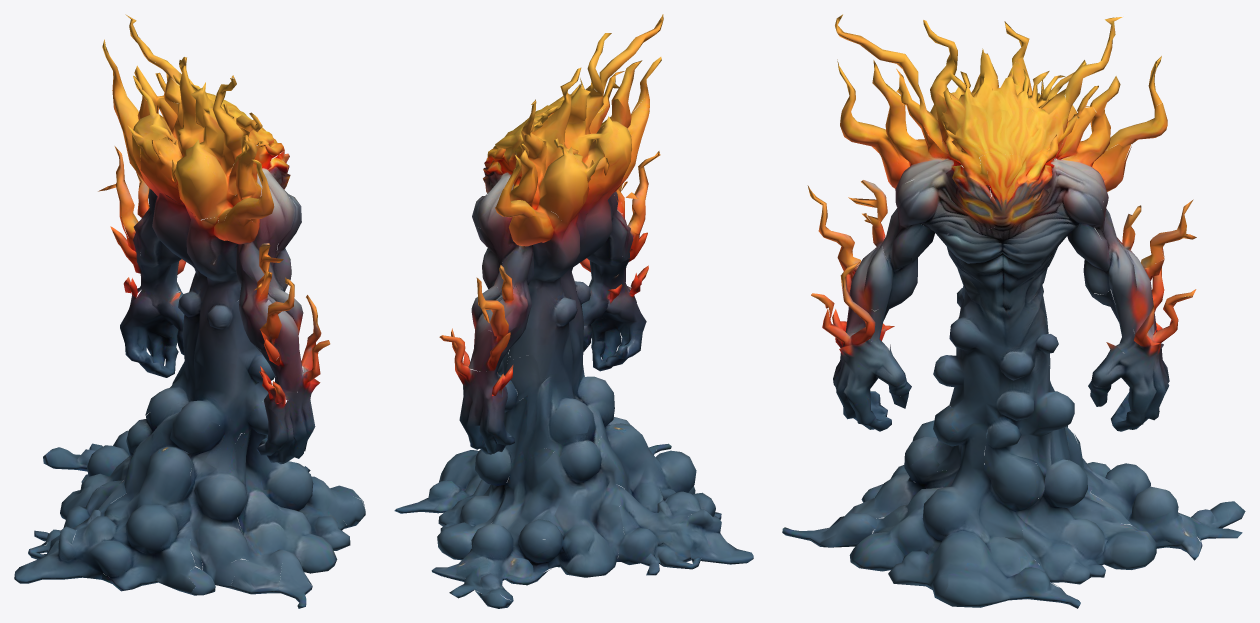
Rendered from eate.glb.
3 renders of one model, left to right at view 1: azimuth 30°, elevation 25°; view 2: azimuth 150°, elevation 25°; view 3: azimuth 270°, elevation 25°, orthographic. The views are drawn at different scales.
Parts seen in each view (by area): view 1: tripo_node_3eb828de-8a67-4283-be21-1d1a8e65766d; view 2: tripo_node_3eb828de-8a67-4283-be21-1d1a8e65766d; view 3: tripo_node_3eb828de-8a67-4283-be21-1d1a8e65766d.
Part boxes in pixels (x1,y1,x2,y2): tripo_node_3eb828de-8a67-4283-be21-1d1a8e65766d: [14, 14, 365, 608]; tripo_node_3eb828de-8a67-4283-be21-1d1a8e65766d: [394, 14, 753, 608]; tripo_node_3eb828de-8a67-4283-be21-1d1a8e65766d: [782, 14, 1245, 608].
Bounding box in the file's own units: 8.57 × 11.9 × 9.71.
1 material, 1 textured.
